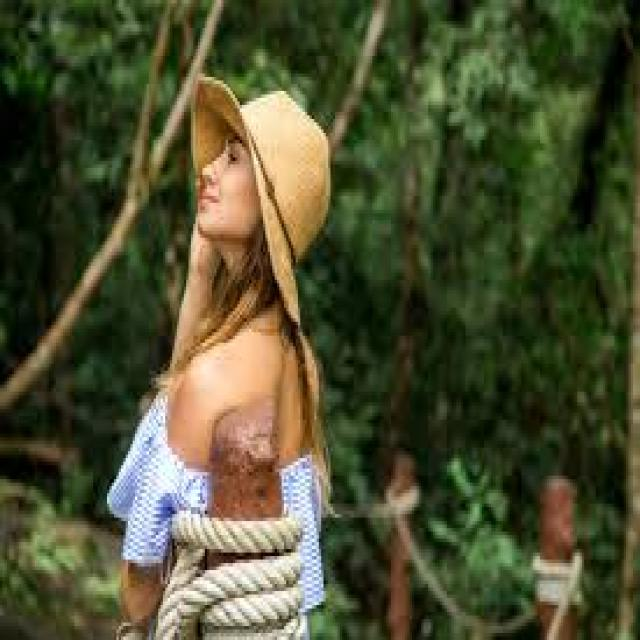hat: (191, 73, 330, 322)
